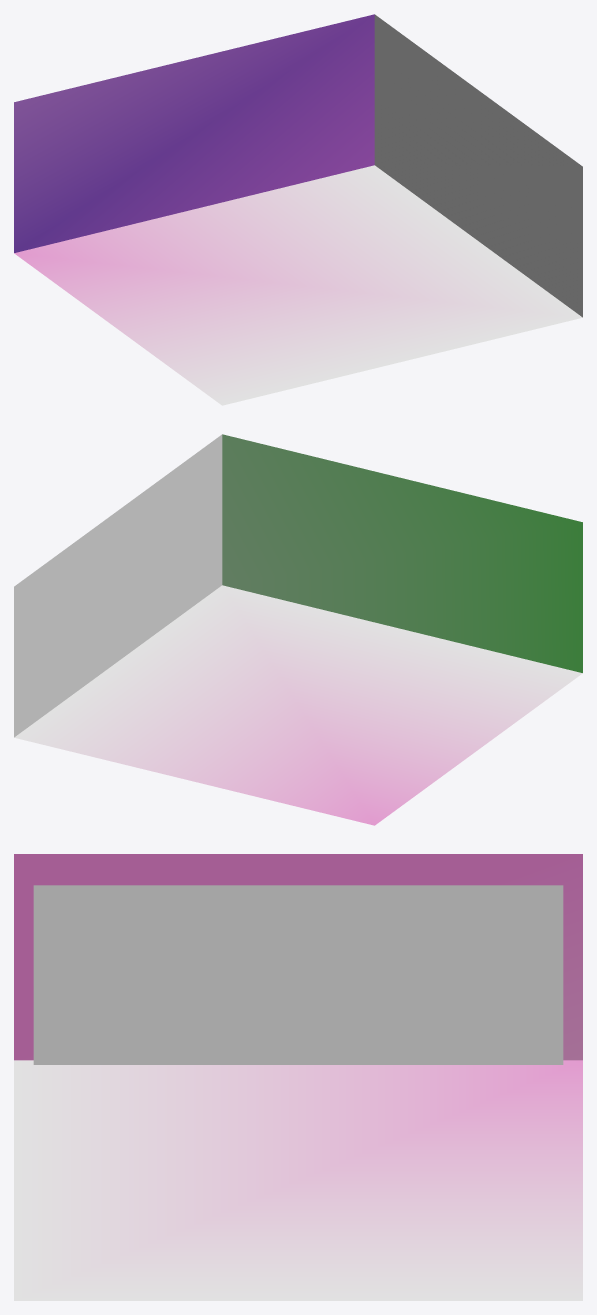
File: rump2.glb
3 renders of one model, top to bottom at view 1: azimuth 30°, elevation 25°; view 2: azimuth 150°, elevation 25°; view 3: azimuth 270°, elevation 25°, orthographic. The views are drawn at different scales.
Visible parts, largest first — view 1: room; view 2: room; view 3: room.
Part boxes in pixels (x1,y1,x2,y2): room: [14, 14, 582, 405]; room: [14, 434, 582, 825]; room: [14, 854, 582, 1300].
Size of the model in its own units: 1 by 0.4 by 1.
